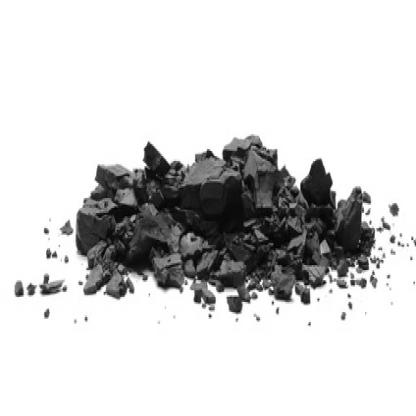Sedimentary_coal: (177, 148, 250, 226)
